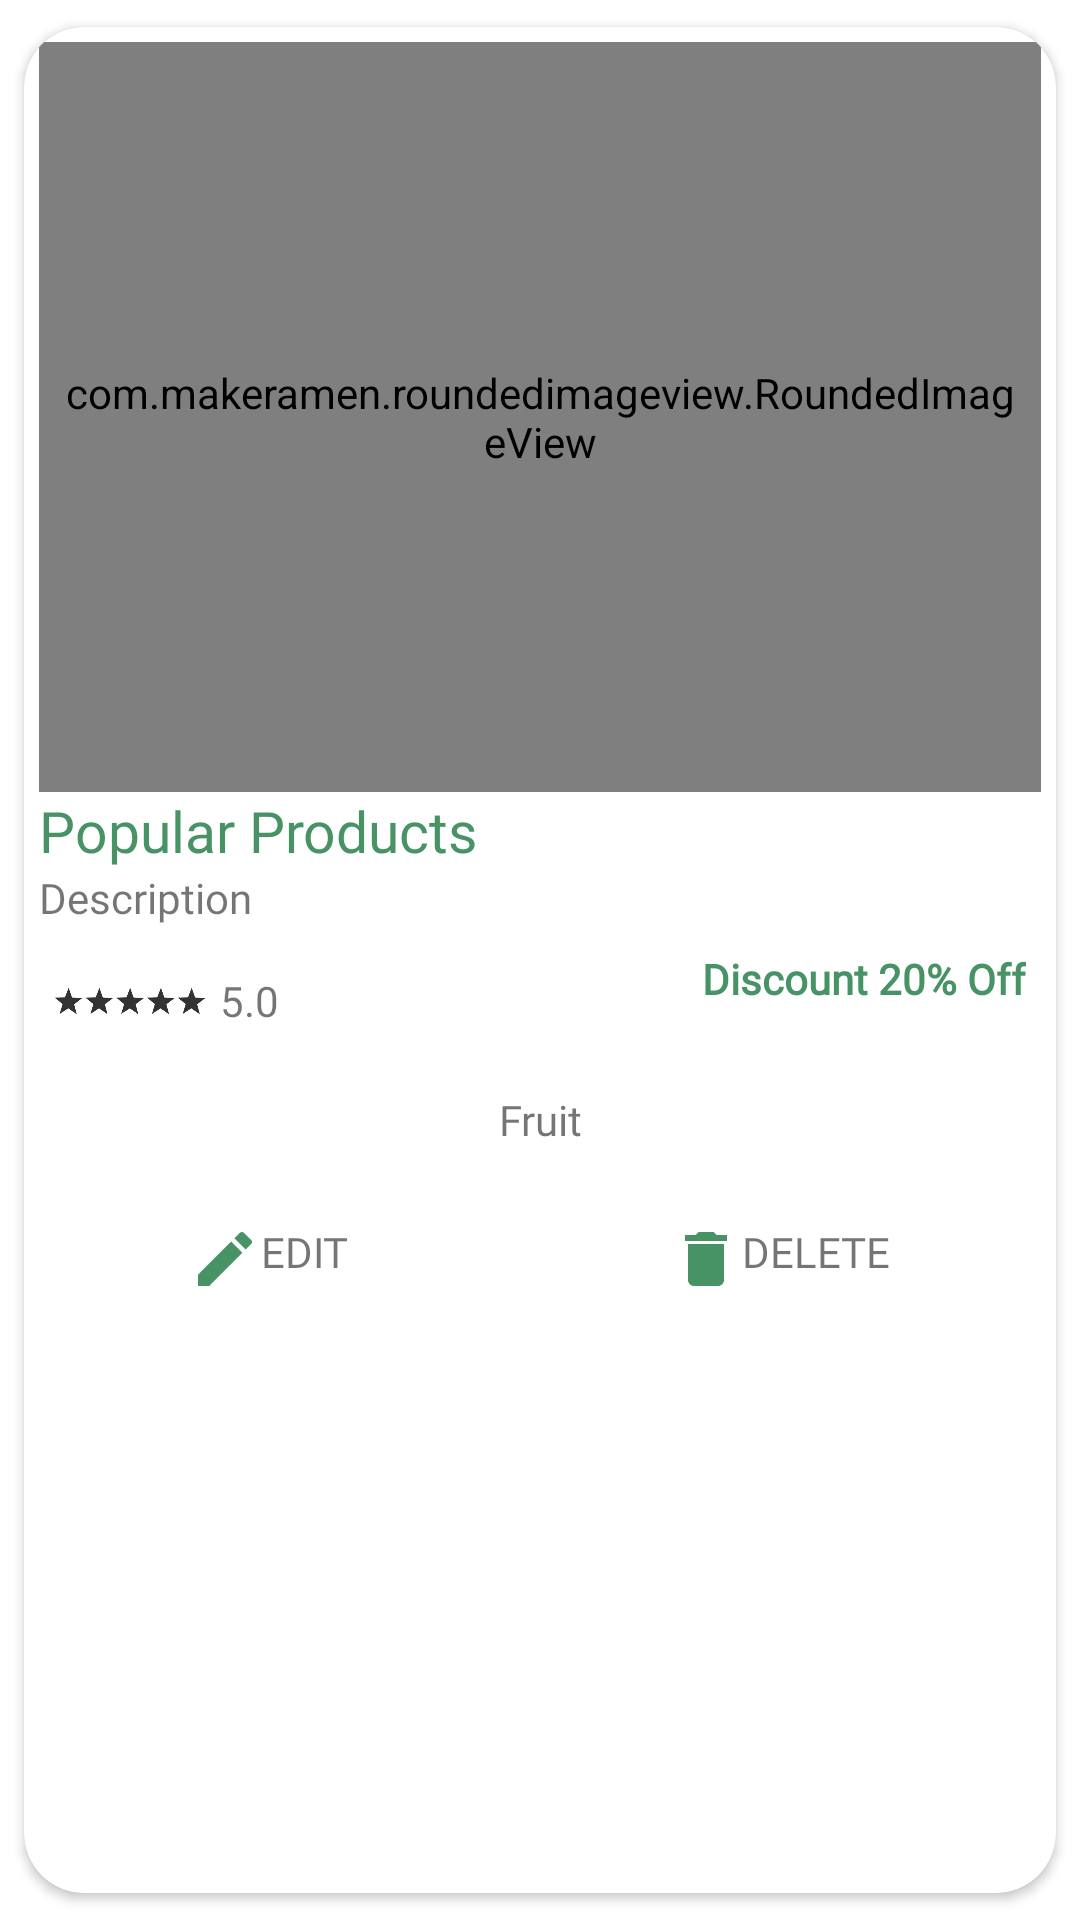

Where to tap for icons on this 1080x1920 app screen, as (x,y):
ratingbar: (130,1001)
